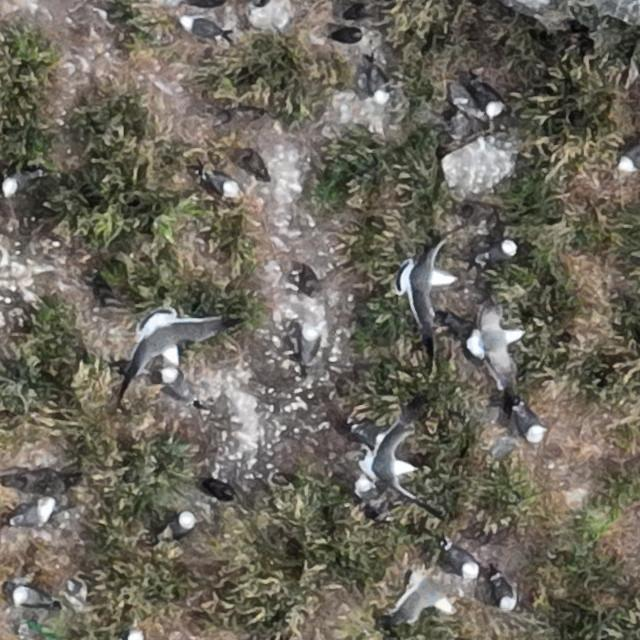F: (132, 311, 214, 366), (402, 242, 452, 328), (367, 422, 418, 498), (475, 322, 520, 382), (399, 575, 462, 615)
umineko: (446, 546, 478, 576), (163, 371, 196, 400), (180, 18, 224, 39), (518, 408, 543, 442), (476, 83, 502, 115), (207, 173, 240, 197), (11, 506, 50, 526), (300, 325, 318, 367), (165, 511, 194, 535), (3, 171, 36, 192), (483, 240, 517, 260), (494, 577, 513, 609), (328, 27, 366, 43), (619, 143, 640, 171), (14, 588, 46, 606), (370, 70, 387, 100)
